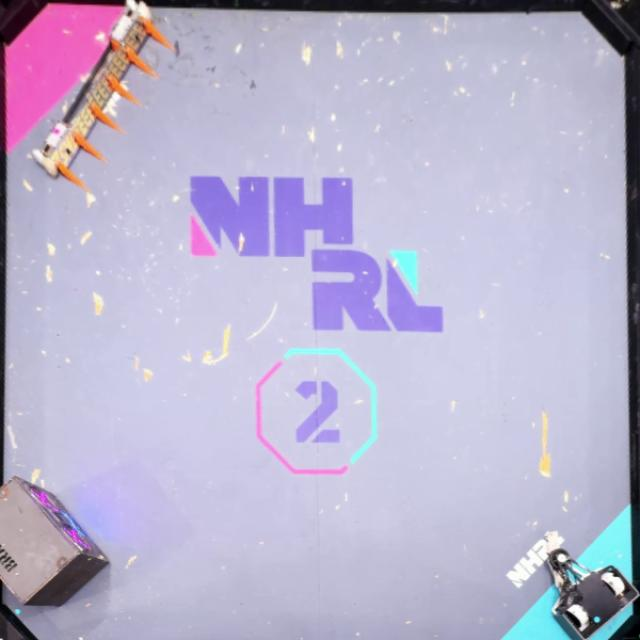housebot: (0, 471, 112, 608)
robot: (28, 0, 174, 191), (544, 543, 640, 640)
